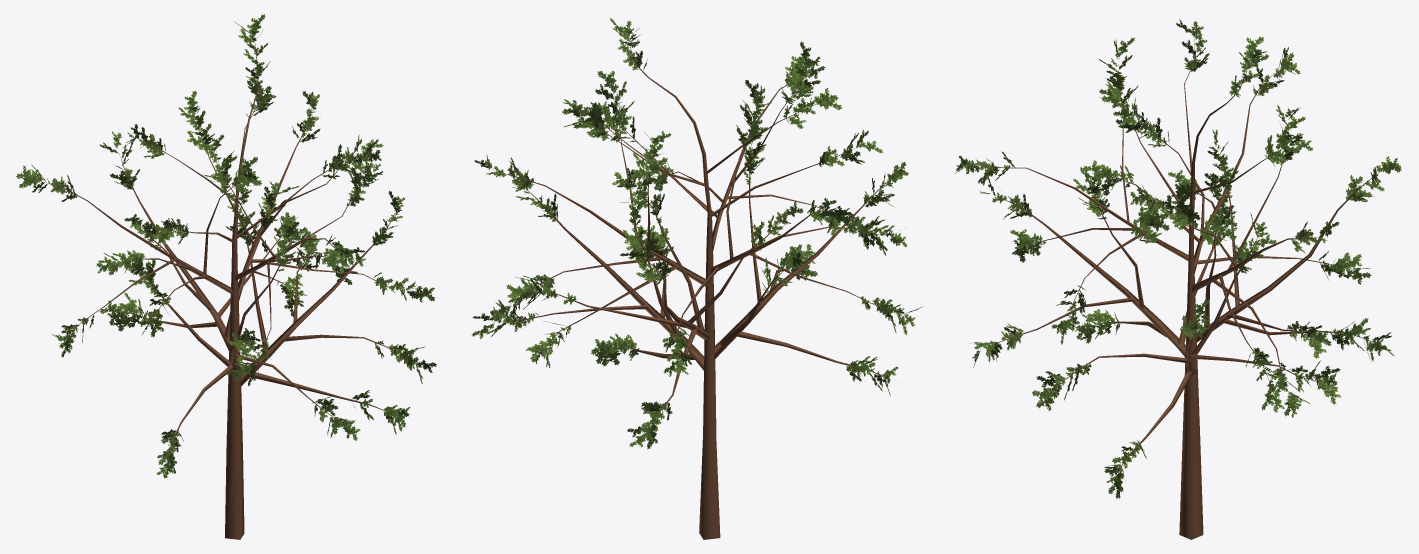
File: old_lod1_tree2.glb
The picture shows the model from 3 angles, left to right: view 1: azimuth 30°, elevation 25°; view 2: azimuth 150°, elevation 25°; view 3: azimuth 270°, elevation 25°; orthographic projection. The views are drawn at different scales.
Visible parts, largest first — view 1: leaves, trunk; view 2: leaves, trunk; view 3: leaves, trunk.
Part boxes in pixels (x1=…): leaves: x1=16, y1=14, x2=436, y2=478; trunk: x1=44, y1=37, x2=408, y2=539; leaves: x1=471, y1=18, x2=923, y2=449; trunk: x1=493, y1=37, x2=897, y2=539; leaves: x1=955, y1=19, x2=1401, y2=498; trunk: x1=975, y1=37, x2=1372, y2=539.
Bounding box in the file's own units: 0.7964 × 1 × 0.7882.
2 materials, 1 textured.
